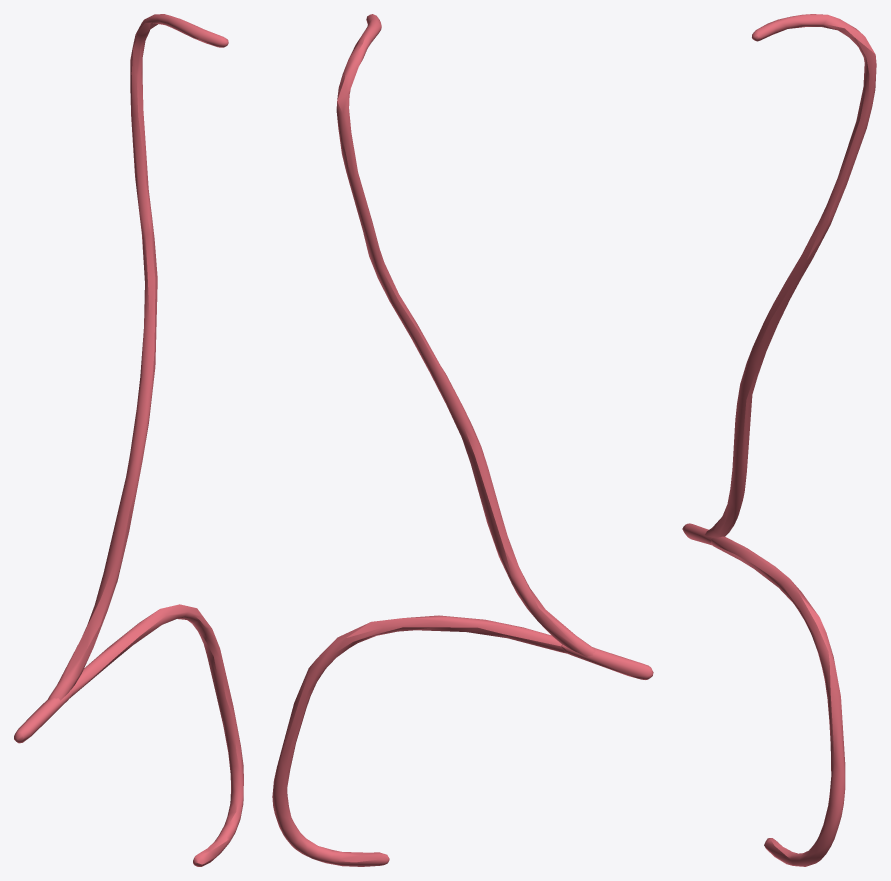
The model's file is fma15394_cx19.glb.
3 views of the same model, side by side, from view 1: azimuth 30°, elevation 25°; view 2: azimuth 150°, elevation 25°; view 3: azimuth 270°, elevation 25° (orthographic).
Visible parts, largest first — view 1: FMA15394_CX19; view 2: FMA15394_CX19; view 3: FMA15394_CX19.
Boxes of the visible parts, left/top/right/bottom form: FMA15394_CX19: left=14, top=14, right=243, bottom=866; FMA15394_CX19: left=272, top=14, right=653, bottom=866; FMA15394_CX19: left=682, top=14, right=876, bottom=866.
Bounding box in the file's own units: 0.0463 × 0.1232 × 0.026.
